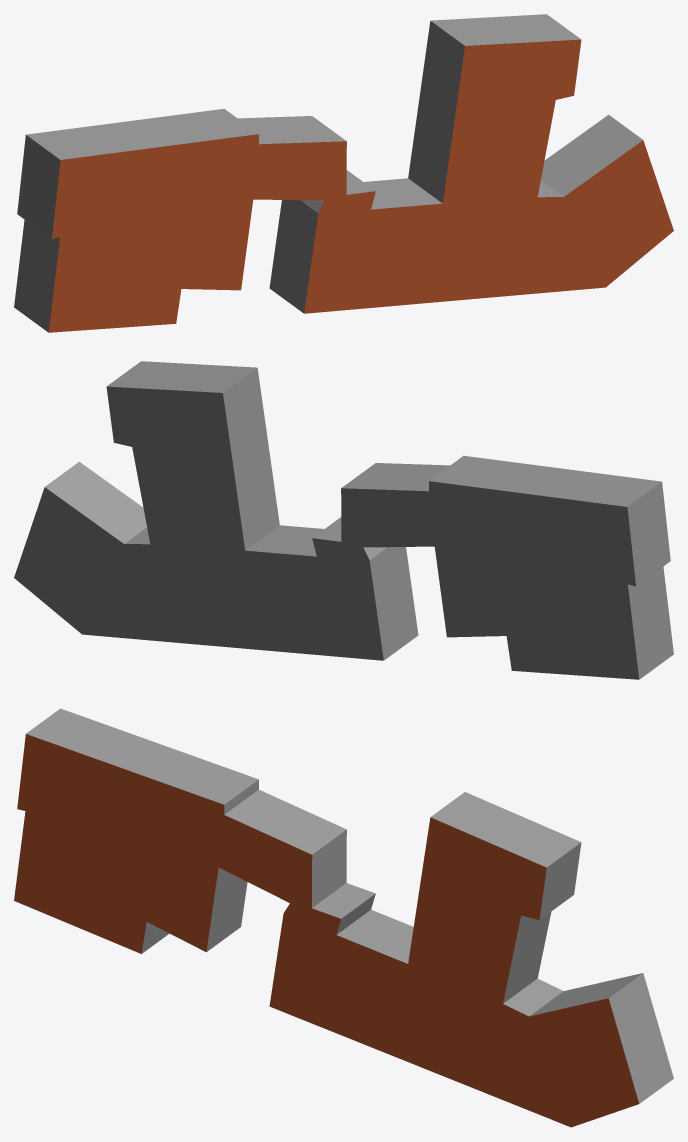
The model's file is construction_0475_assumed_A_Casa_h6m.obj.
3 renders of one model, top to bottom at view 1: azimuth 30°, elevation 25°; view 2: azimuth 150°, elevation 25°; view 3: azimuth 330°, elevation 25°, orthographic.
Parts seen in each view (by area): view 1: construction_0475_assumed_A_Casa; view 2: construction_0475_assumed_A_Casa; view 3: construction_0475_assumed_A_Casa.
Boxes of the visible parts, <box> form: construction_0475_assumed_A_Casa: <box>14,14,673,332</box>; construction_0475_assumed_A_Casa: <box>14,361,673,679</box>; construction_0475_assumed_A_Casa: <box>14,708,673,1127</box>.
Size of the model in its own units: 62.48 by 26.35 by 6.
